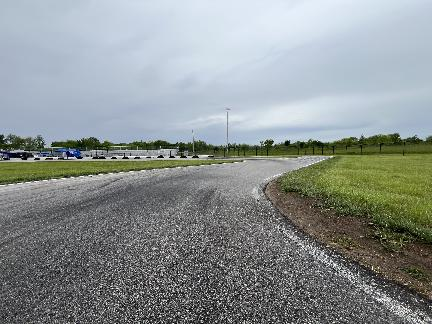Grass: (276, 155, 431, 313), (0, 160, 238, 183), (398, 266, 430, 281), (241, 156, 301, 158)
Lane: (0, 157, 431, 323)
